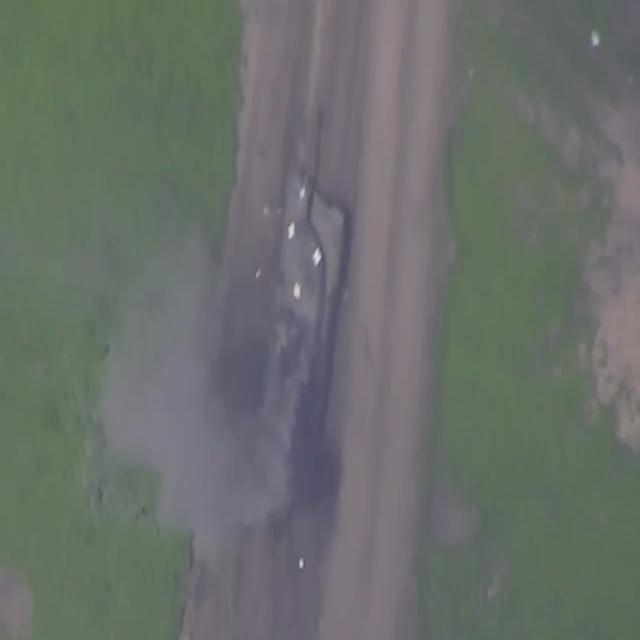MBT: (261, 84, 352, 513)
